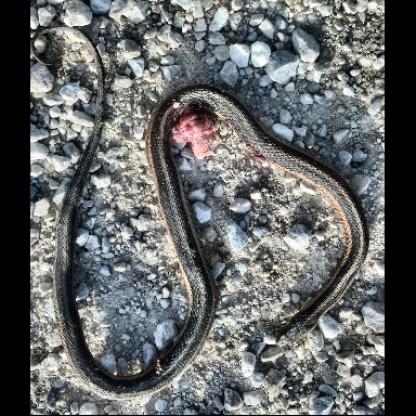Snake: (46, 26, 372, 400)
